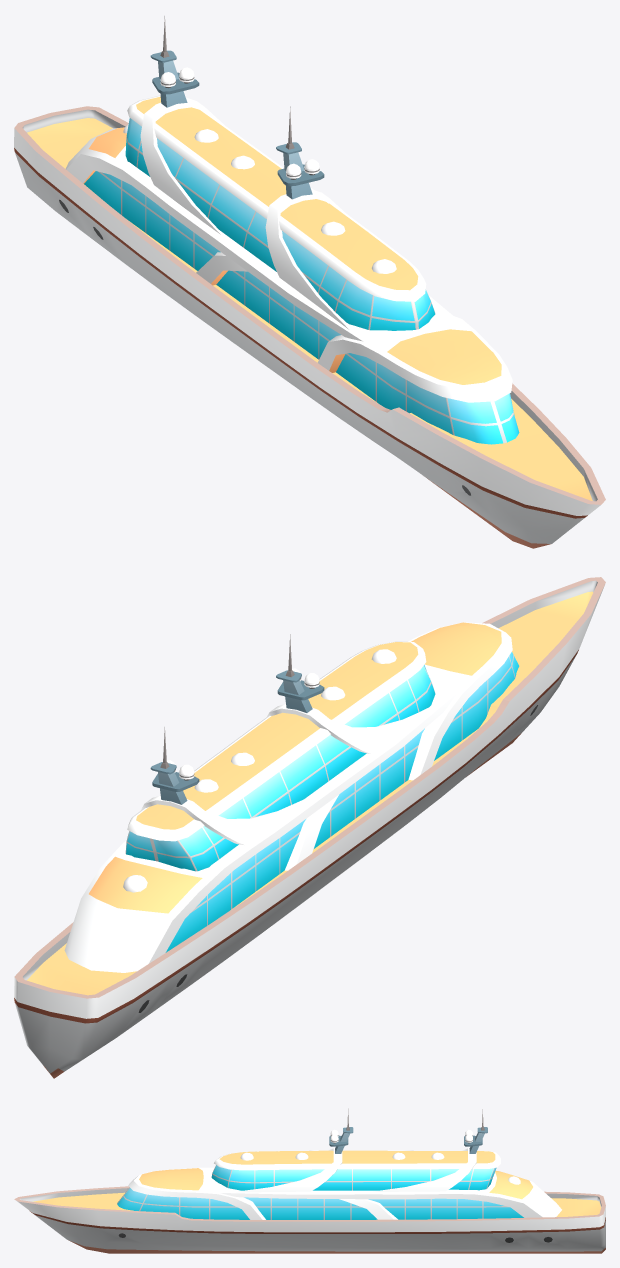
File: Yacht_01.glb
3 views of the same model, one above another, from view 1: azimuth 30°, elevation 25°; view 2: azimuth 150°, elevation 25°; view 3: azimuth 270°, elevation 25° (orthographic). The views are drawn at different scales.
Visible parts, largest first — view 1: Yacht_01; view 2: Yacht_01; view 3: Yacht_01.
Part boxes in pixels (left/top/right/bottom): Yacht_01: left=14, top=16, right=605, bottom=548; Yacht_01: left=14, top=577, right=605, bottom=1078; Yacht_01: left=14, top=1108, right=605, bottom=1253.
Bounding box in the file's own units: 9.39 × 19.65 × 72.05.
1 material, 1 textured.
